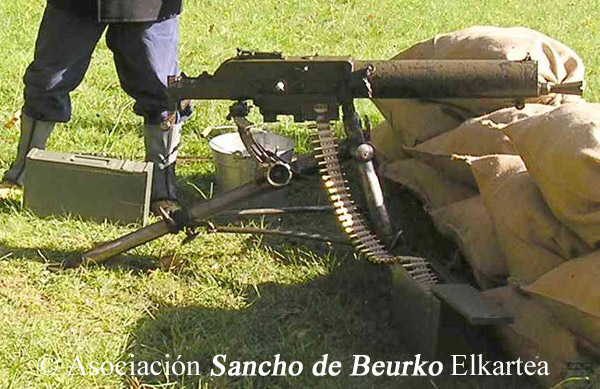rifle: (152, 55, 578, 262)
